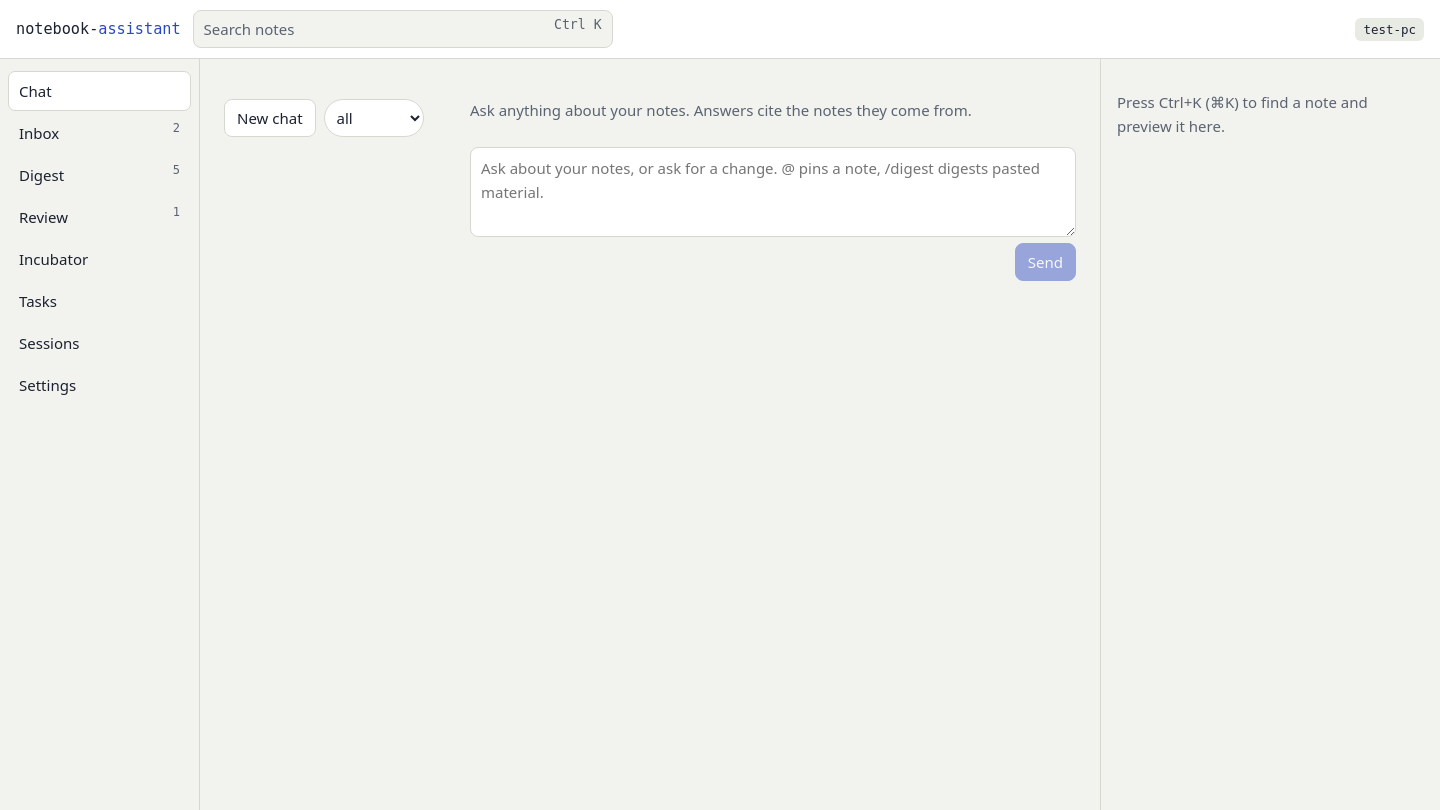
Test: shows the PC, live counts, and opens on Chat
The image size is (1440, 810).
Expected: the text "test-pc" is shown, x1=1355 y1=18 x2=1424 y2=40
Expected: the text "5" is shown, x1=173 y1=163 x2=180 y2=177
Click the button "Settings" at (100,385), box x1=8 y1=365 x2=191 y2=405
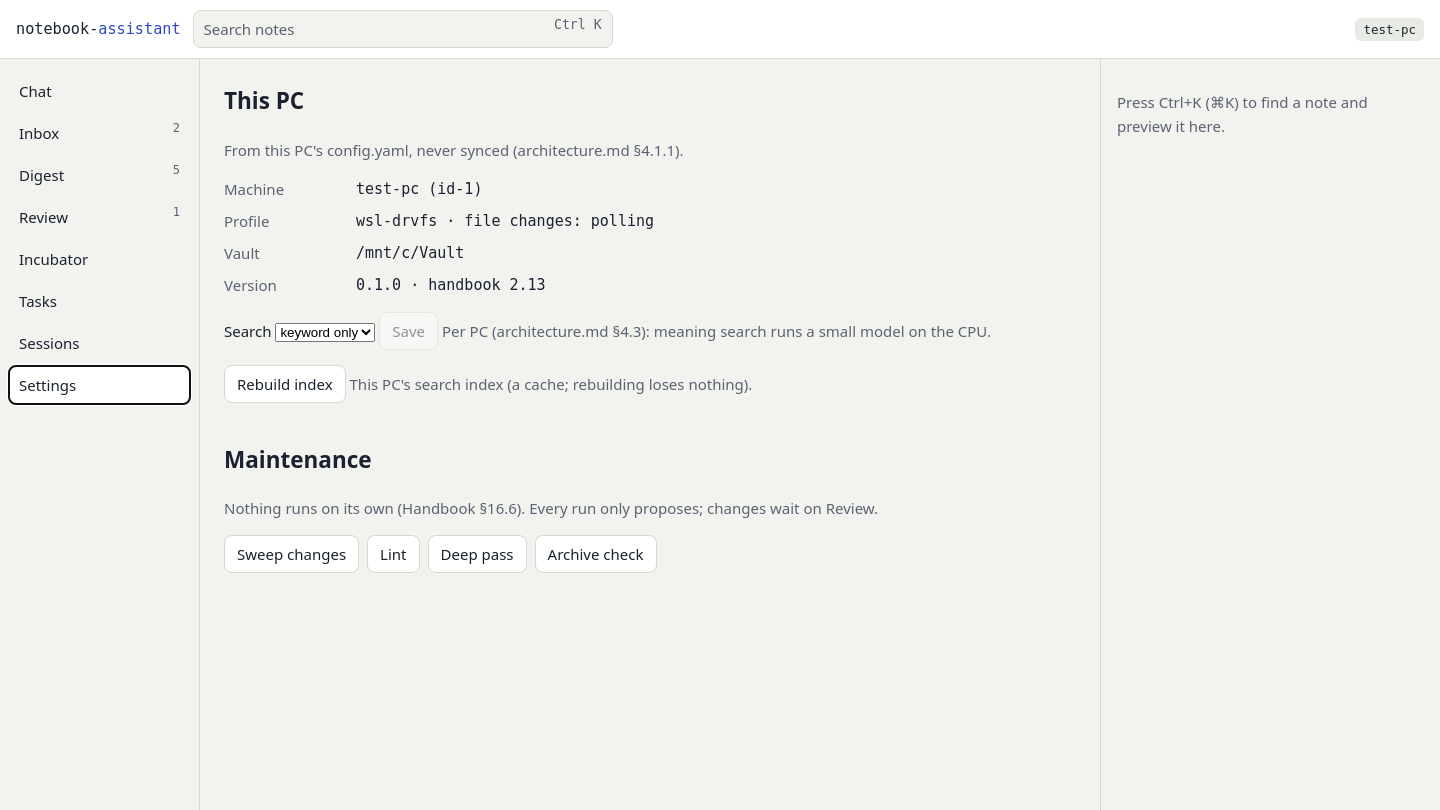
Now the text "wsl-drvfs · file changes: polling" is shown, box x1=356 y1=212 x2=654 y2=230
